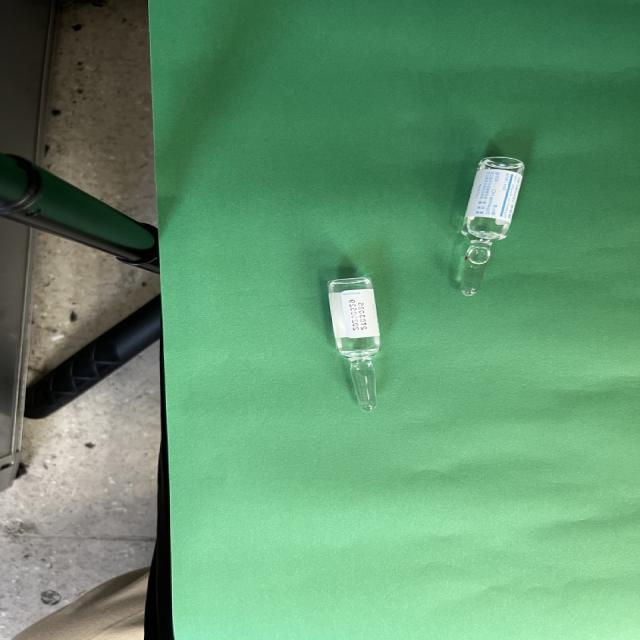Ampoules: (460, 156, 524, 296), (327, 276, 379, 412)
